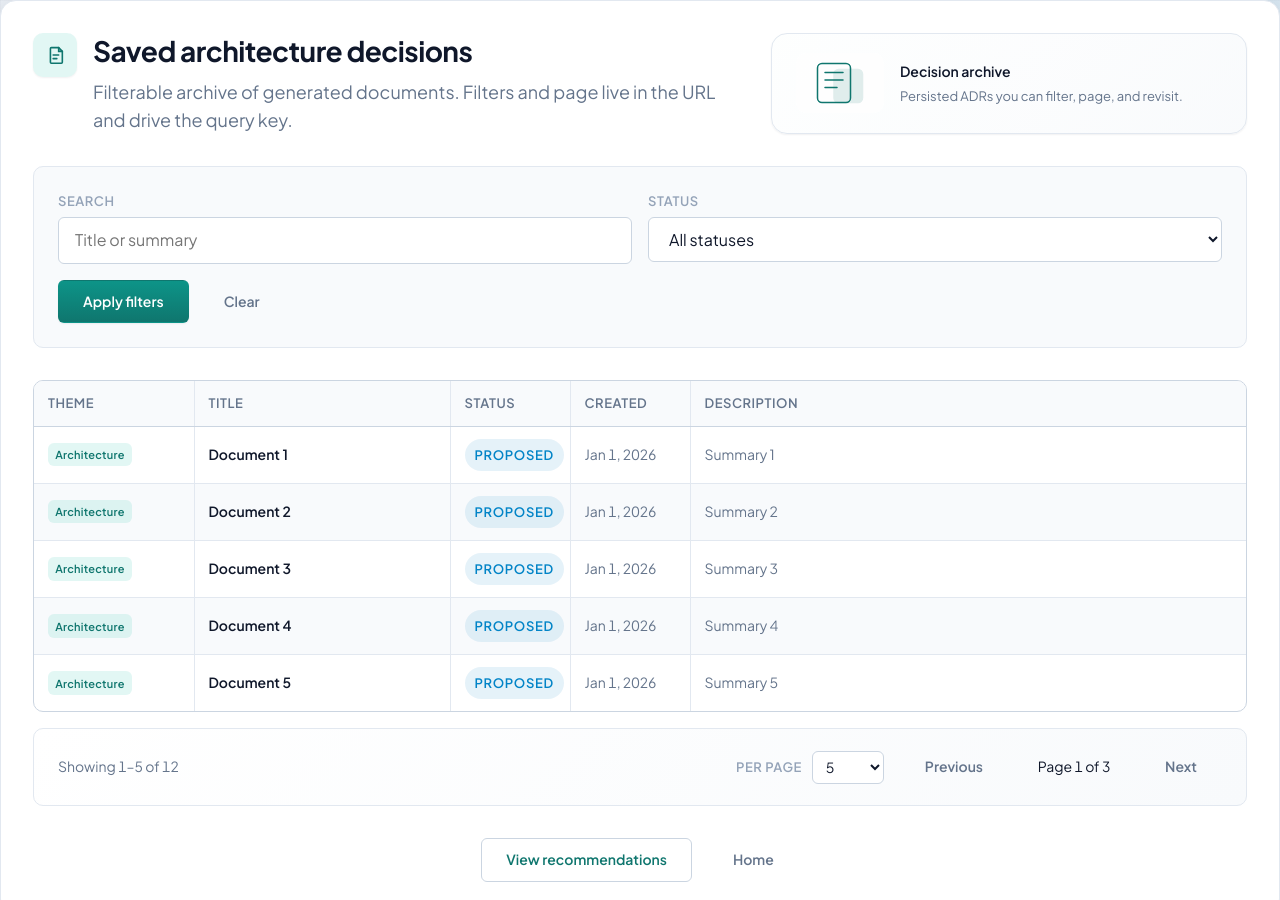
Test: ArchitectureDecisionsPage › paginates documents and updates the URL page
The width and height of the screenshot is (1280, 900).
Expected: the link "Document 1" is shown, [208,445,288,463]
Expected: the link "Document 6" is not shown
What coordinates should you click on to do the following:
click the button "Next"
I would click on:
 (1181, 767)
Its box is [1140,745,1222,789].
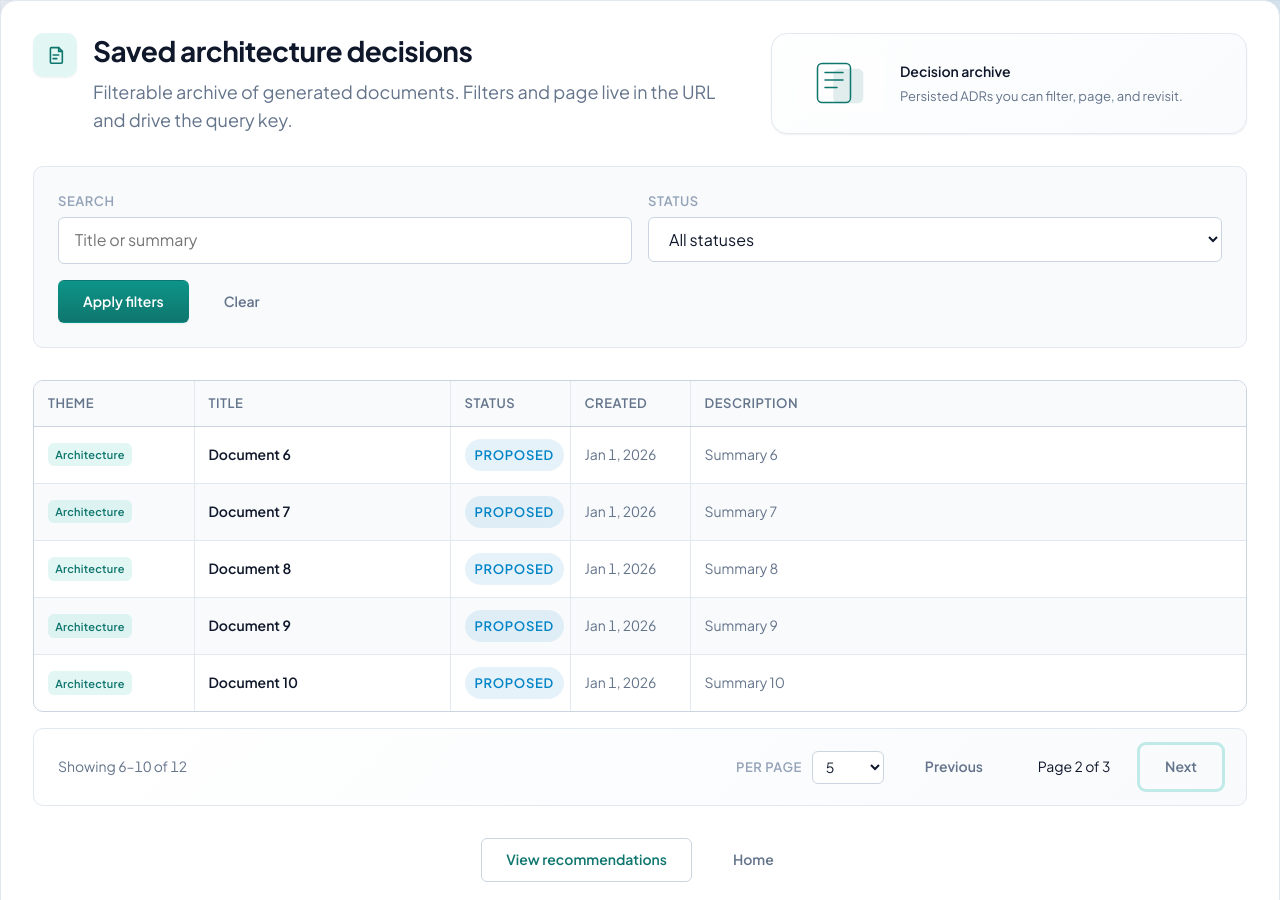
Expected: the link "Document 6" is shown, [208,445,291,463]
Expected: the text "Page 2 of 3" is shown, [1038,757,1110,775]
